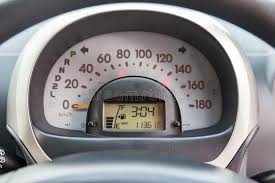Digital_Meter: (108, 116, 163, 129)
